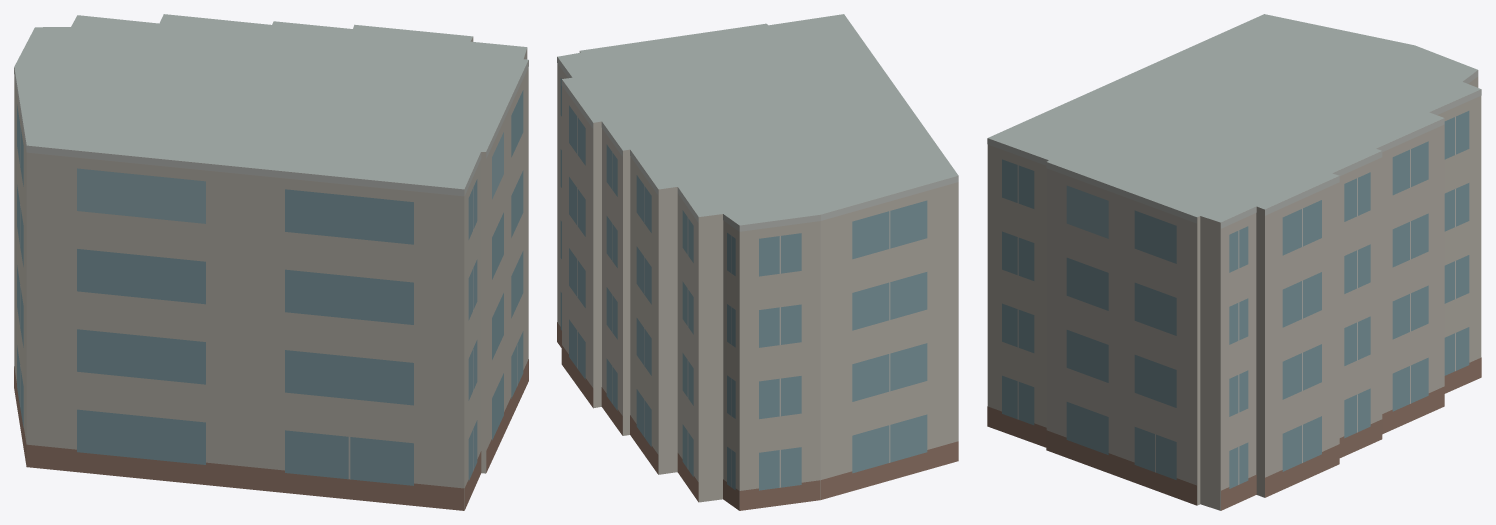
File: survey-upis-32657401.glb
3 views of the same model, side by side, from view 1: azimuth 30°, elevation 25°; view 2: azimuth 150°, elevation 25°; view 3: azimuth 270°, elevation 25° (orthographic). The views are drawn at different scales.
Visible parts, largest first — view 1: survey-upis-32657401.tmp; view 2: survey-upis-32657401.tmp; view 3: survey-upis-32657401.tmp.
Boxes of the visible parts, x1,y1,x2,y2 form: survey-upis-32657401.tmp: [14, 14, 528, 510]; survey-upis-32657401.tmp: [557, 14, 958, 510]; survey-upis-32657401.tmp: [987, 14, 1481, 510].
Bounding box in the file's own units: 17.23 × 11.1 × 17.24.
